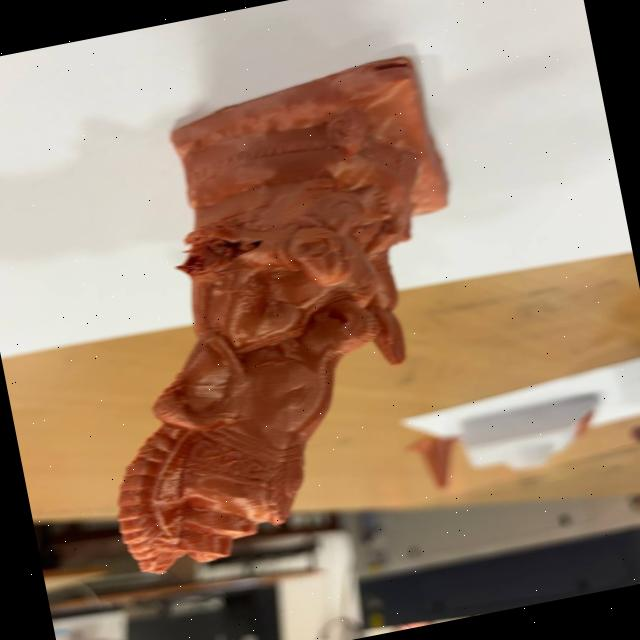cracks: (154, 212, 278, 293), (356, 45, 422, 98)
